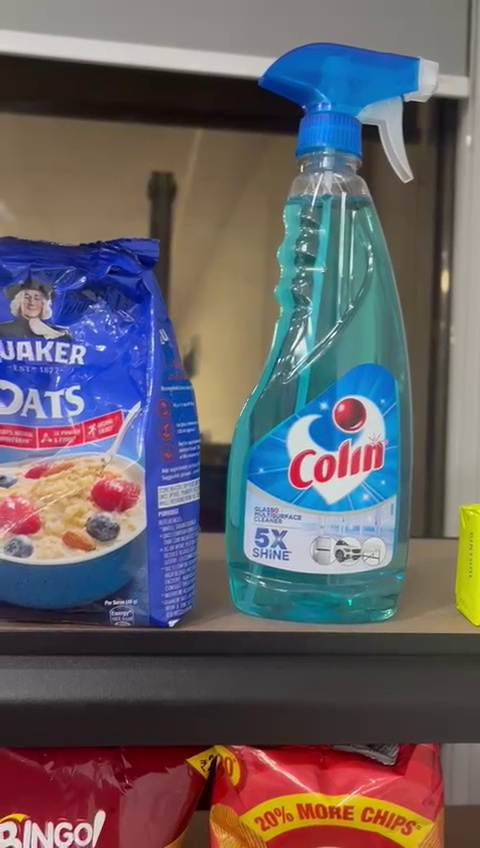Colin: (229, 26, 439, 628)
